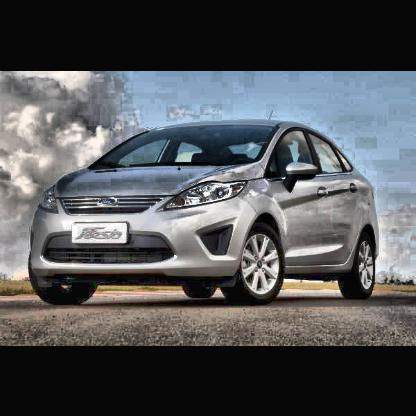Ford Fiesta Sedan 2012: (30, 120, 386, 305)
